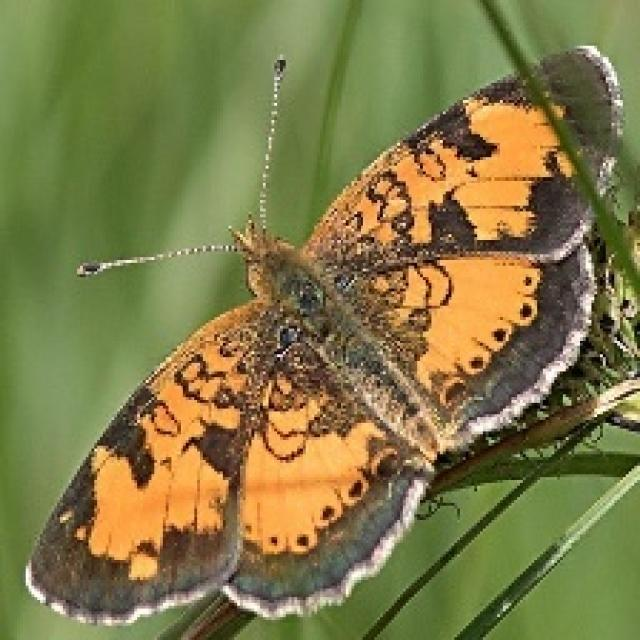butterfly: (23, 40, 623, 637)
